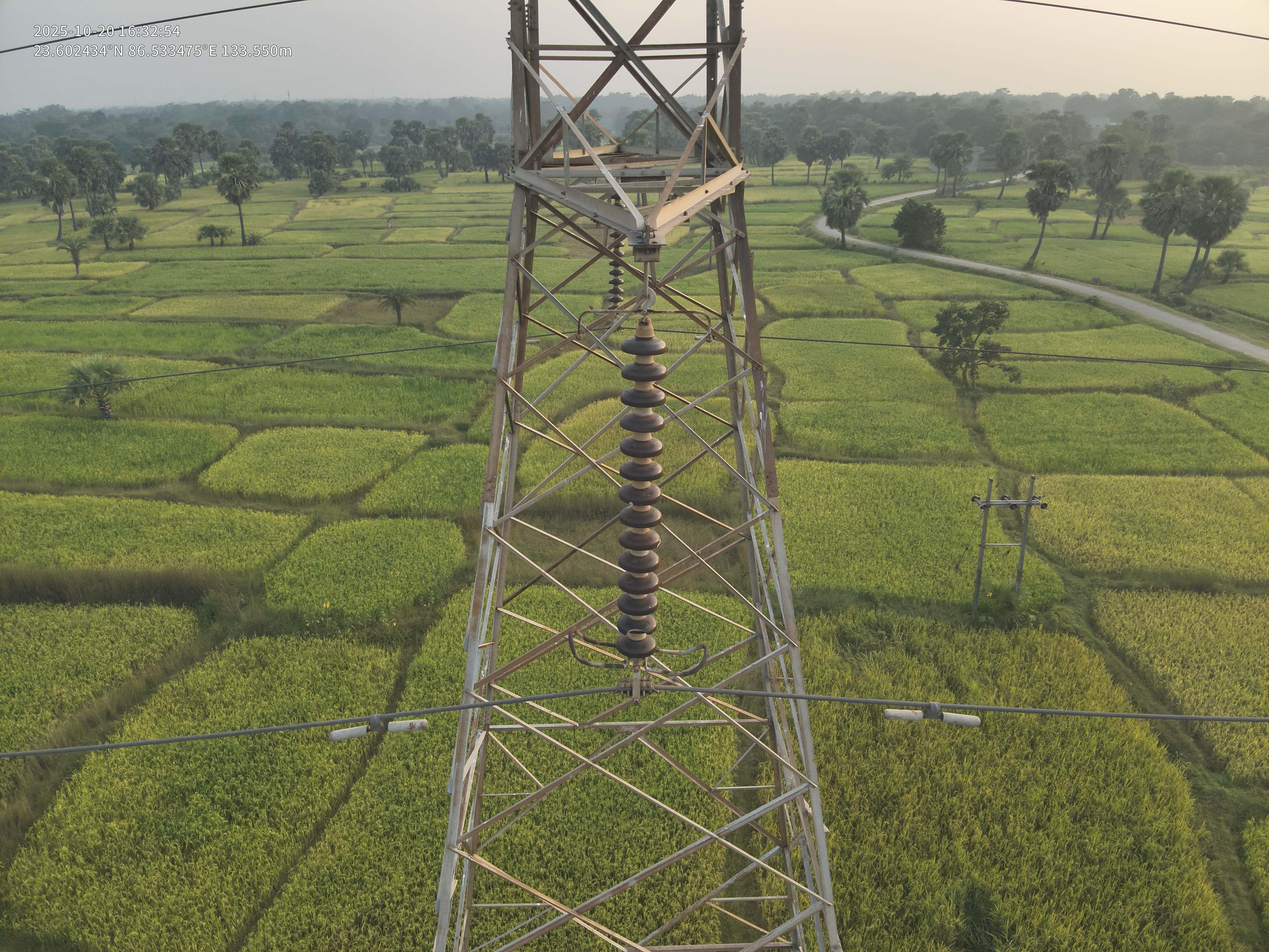broken_insulator: (616, 614, 664, 638)
